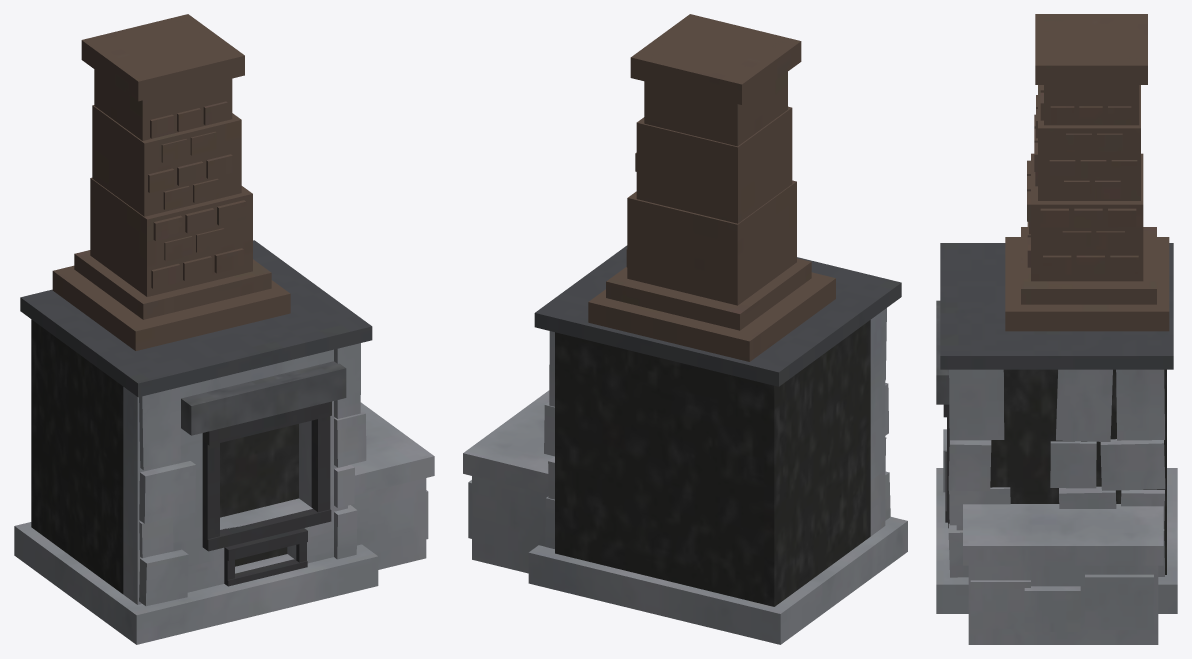
Rendered from stove.glb.
The picture shows the model from 3 angles, left to right: view 1: azimuth 30°, elevation 25°; view 2: azimuth 150°, elevation 25°; view 3: azimuth 270°, elevation 25°; orthographic projection. The views are drawn at different scales.
Parts seen in each view (by area): view 1: StoveWeb; view 2: StoveWeb; view 3: StoveWeb.
Part boxes in pixels (x1,y1,x2,y2): StoveWeb: [14, 14, 434, 644]; StoveWeb: [463, 14, 907, 644]; StoveWeb: [936, 14, 1177, 644].
Bounding box in the file's own units: 1.67 × 2.6 × 1.12.
1 material, 1 textured.
